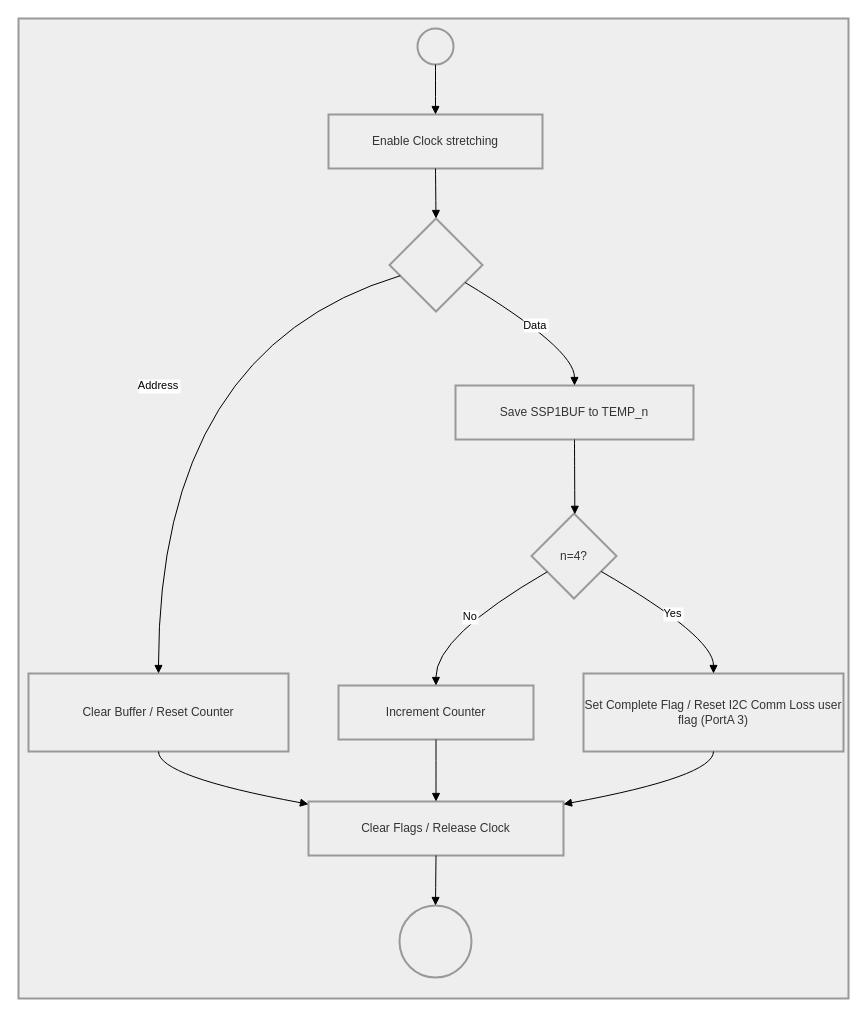
Image size: 866x1016. Some labels were removed from this diagram. Here are the shapes that lost their labels. From the top down, the centre of each, then its label:
At point 435,46: "ISR".
At point 435,264: "Type?".
At point 435,941: "RETURN".
